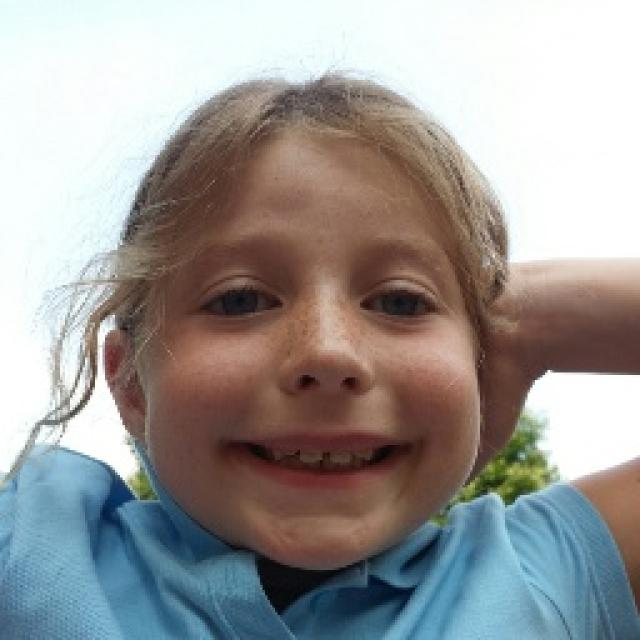earlobe: (124, 403, 151, 443)
eye: (192, 284, 280, 319), (358, 285, 438, 321)
nose: (281, 369, 382, 419)
wholeear: (103, 329, 152, 442)
